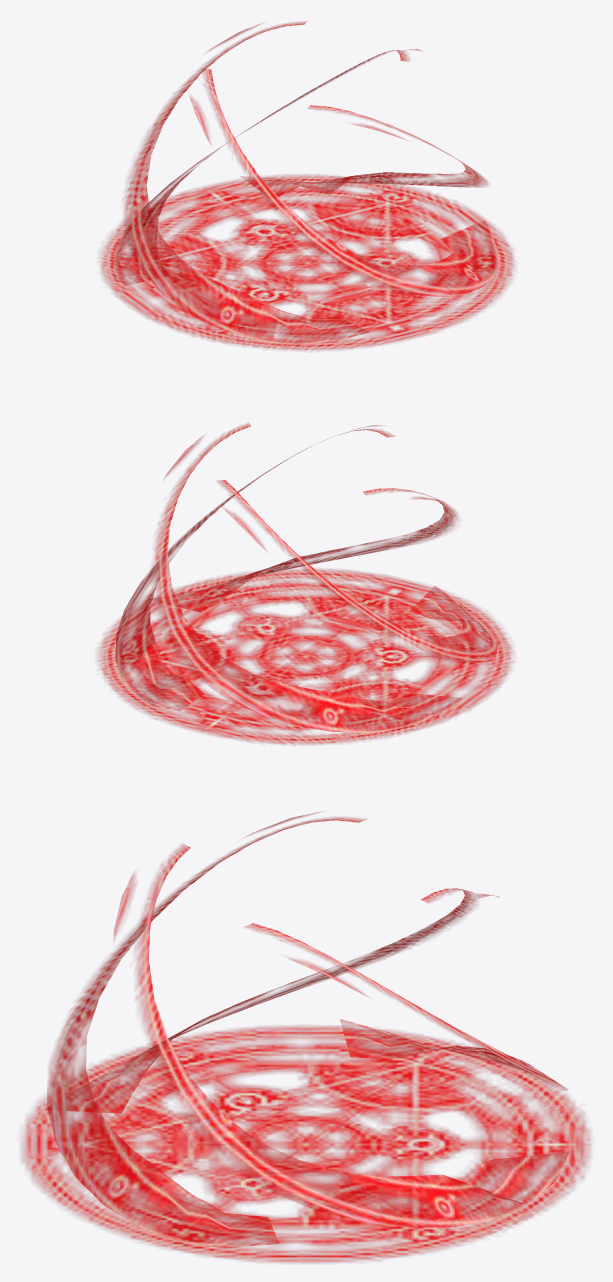
Rendered from magic_ring_red.glb.
3 renders of one model, top to bottom at view 1: azimuth 30°, elevation 25°; view 2: azimuth 150°, elevation 25°; view 3: azimuth 270°, elevation 25°, orthographic. The views are drawn at different scales.
Parts seen in each view (by area): view 1: Circle; view 2: Circle; view 3: Circle.
Boxes of the visible parts, x1,y1,x2,y2 form: Circle: (99, 21, 514, 350); Circle: (97, 423, 513, 745); Circle: (22, 812, 590, 1262).
Size of the model in its own units: 3.84 by 1.97 by 3.84.
Materials: 1 (1 with a texture image).
